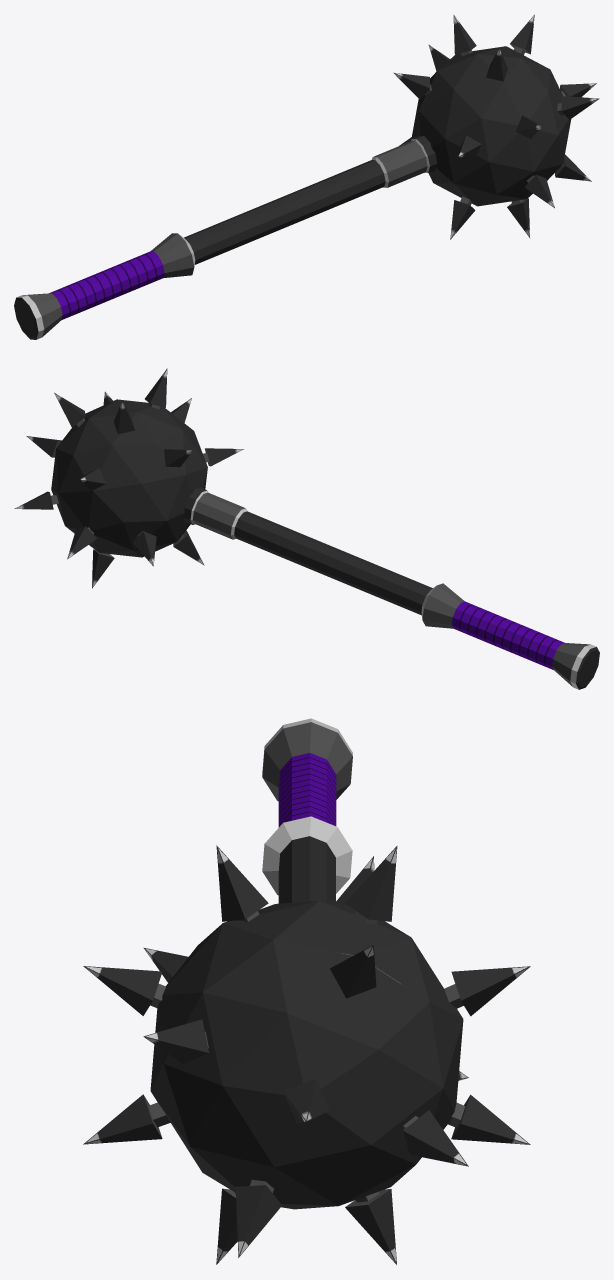
File: WorldItem_MorningStar.fbx
The picture shows the model from 3 angles, top to bottom: view 1: azimuth 30°, elevation 25°; view 2: azimuth 150°, elevation 25°; view 3: azimuth 270°, elevation 25°; orthographic projection. The views are drawn at different scales.
Visible parts, largest first — view 1: ZomboidMorningStar; view 2: ZomboidMorningStar; view 3: ZomboidMorningStar.
Boxes of the visible parts, <box> form: ZomboidMorningStar: <box>14,14,599,339</box>; ZomboidMorningStar: <box>14,368,599,689</box>; ZomboidMorningStar: <box>83,718,530,1264</box>.
Size of the model in its own units: 0.4423 by 0.1465 by 0.1516.
